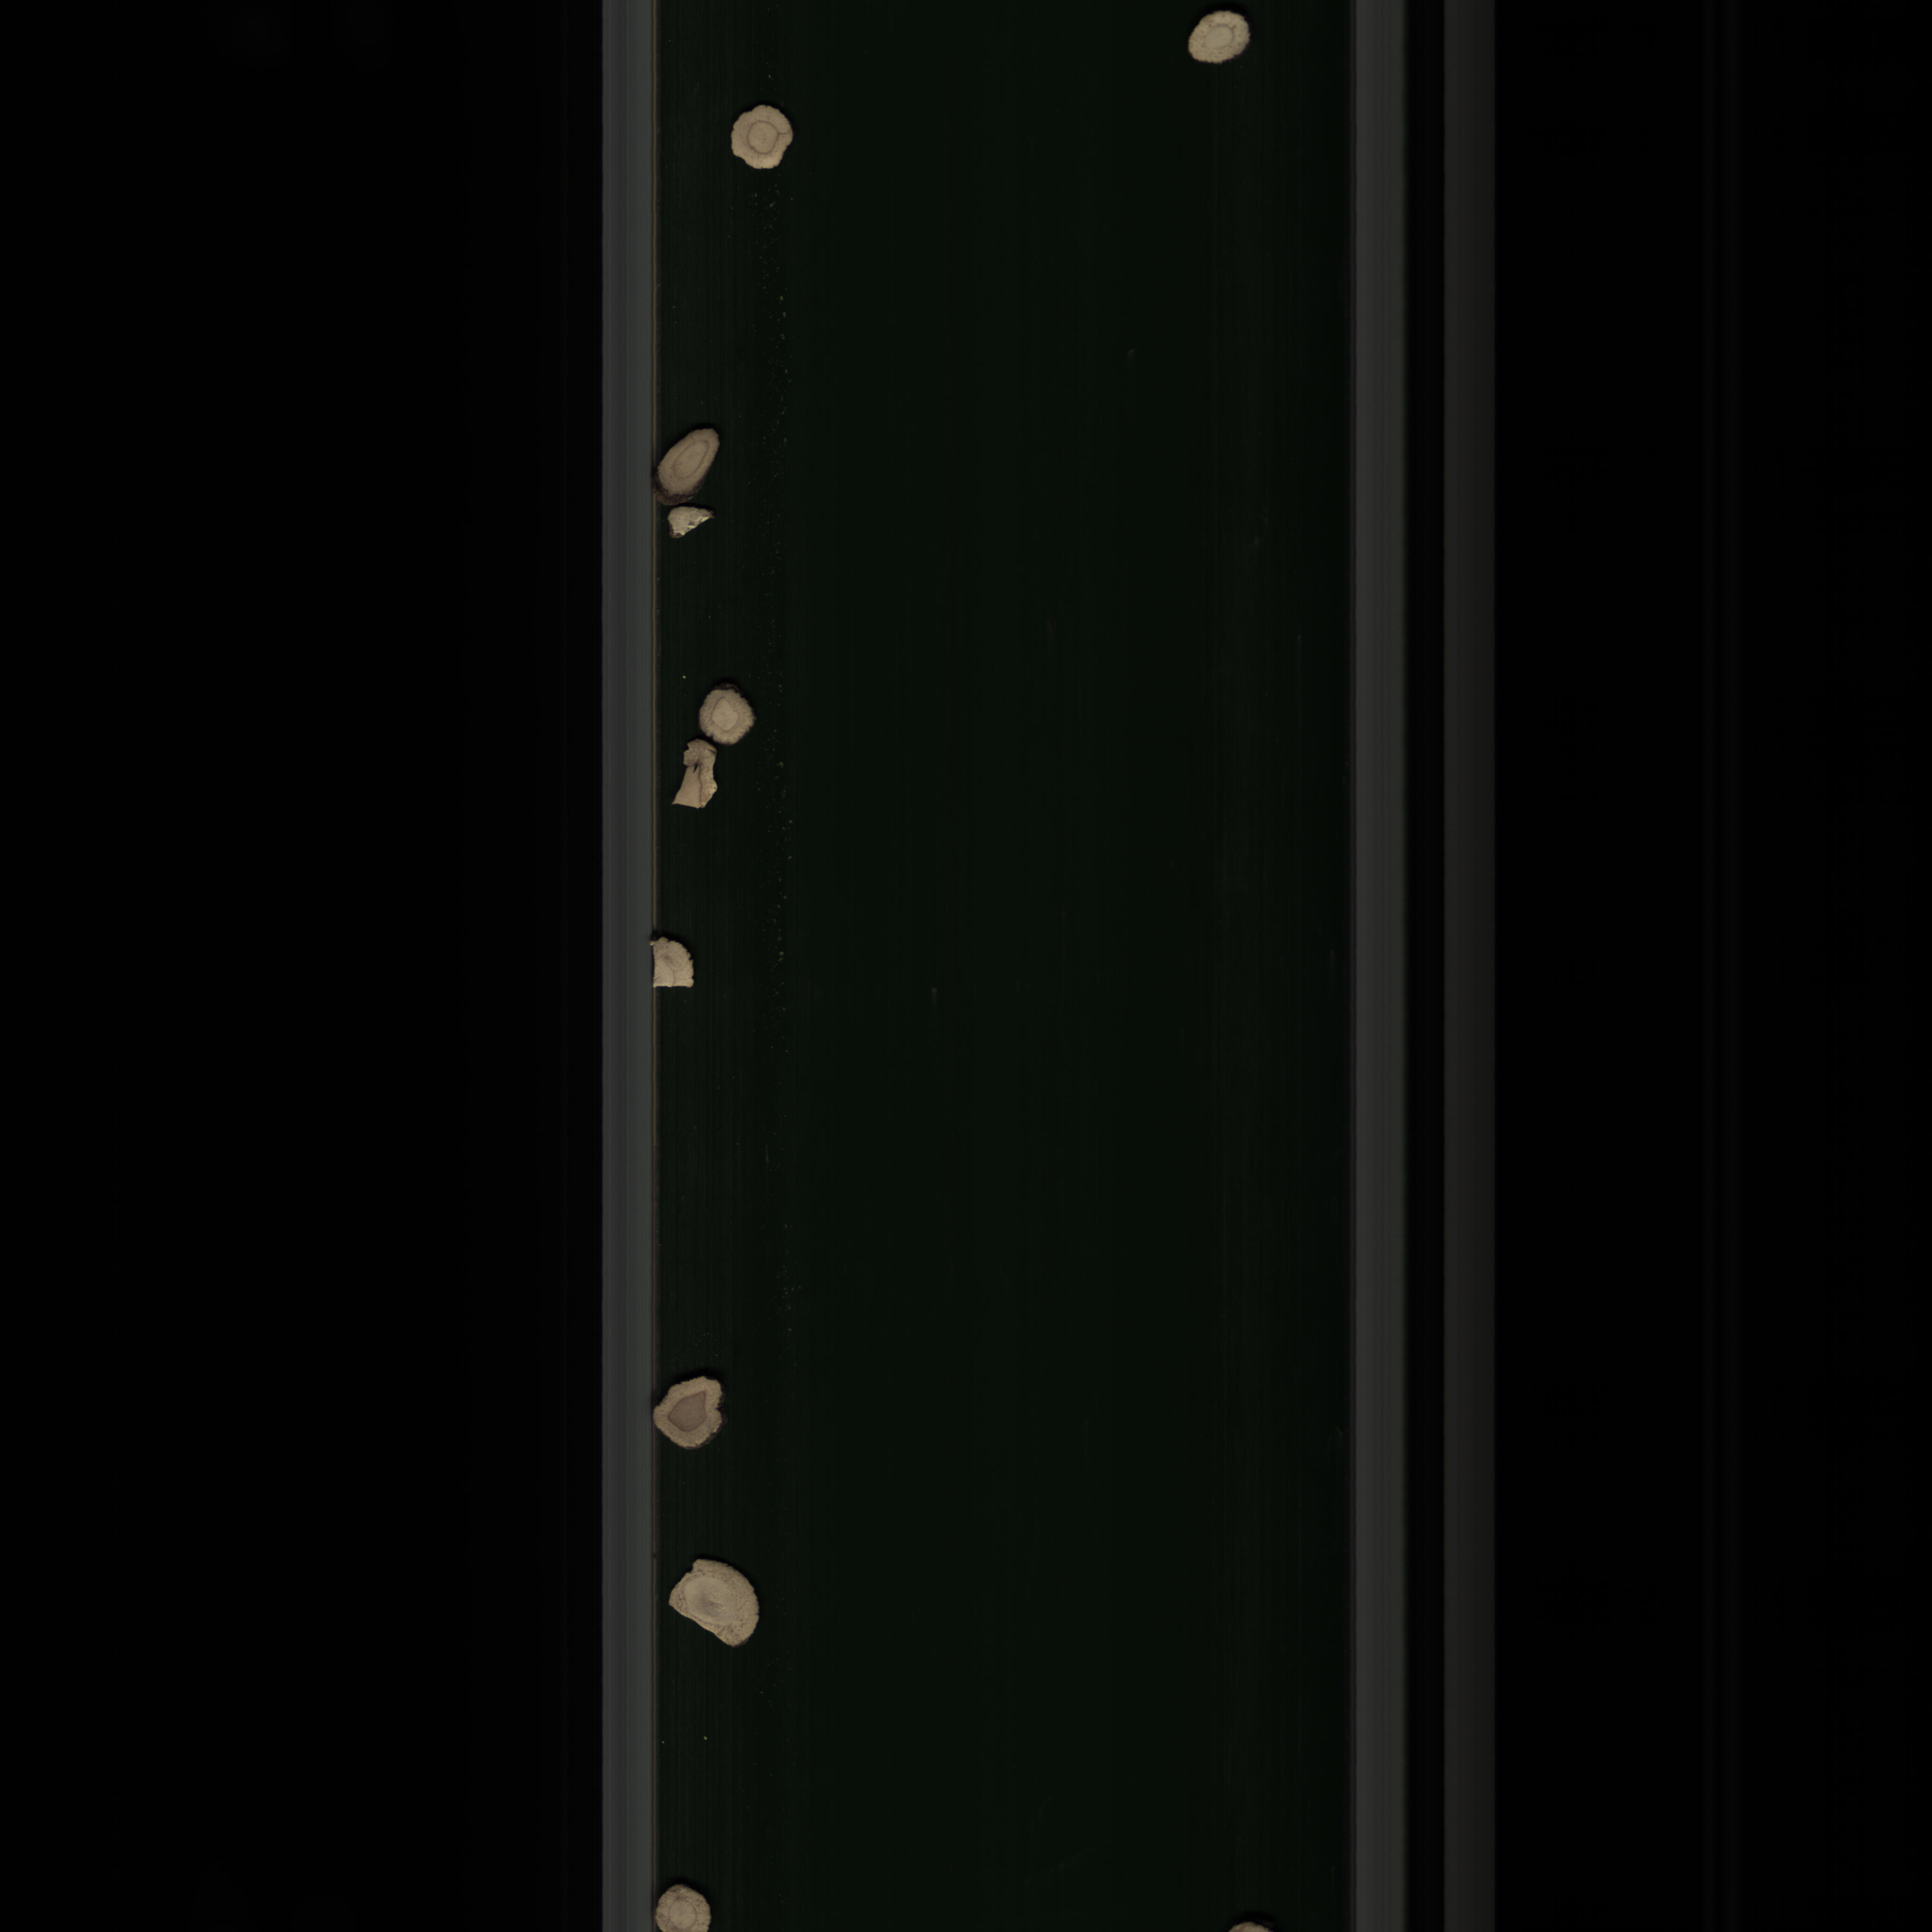debris: (663, 1537, 763, 1654), (648, 913, 706, 1005), (671, 736, 720, 824), (663, 504, 724, 547)
moldy: (655, 1368, 731, 1458)
